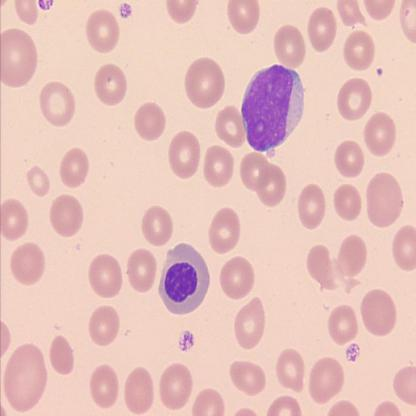NRC: (156, 240, 210, 315)
